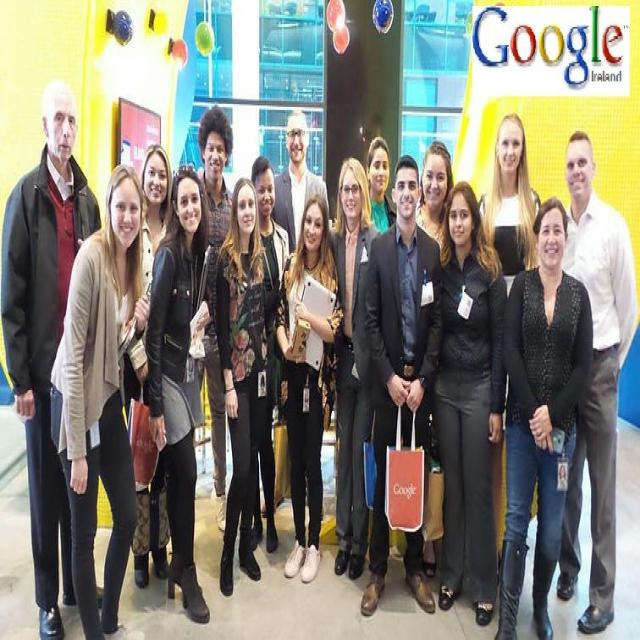body: (0, 81, 111, 638), (49, 162, 151, 638), (489, 194, 595, 638), (554, 128, 638, 635), (358, 150, 446, 616), (434, 178, 509, 630), (146, 158, 212, 628), (478, 111, 543, 586), (270, 194, 345, 586), (213, 175, 276, 599), (327, 155, 384, 581), (128, 142, 174, 588), (413, 140, 456, 583), (198, 102, 235, 533), (251, 154, 291, 412), (270, 109, 329, 258), (365, 132, 398, 234)
